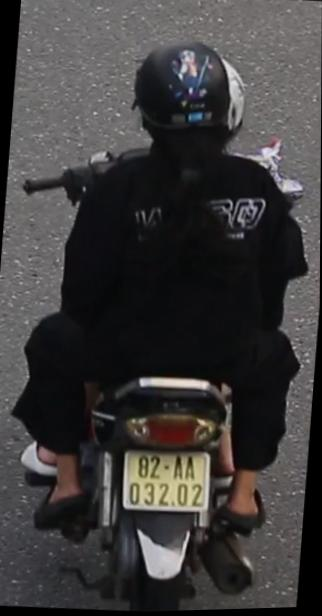LP: (115, 440, 217, 520)
helmet: (124, 36, 251, 182)
